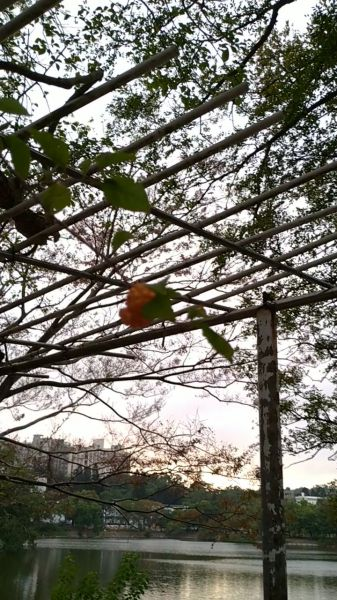eggs: (111, 278, 161, 328)
